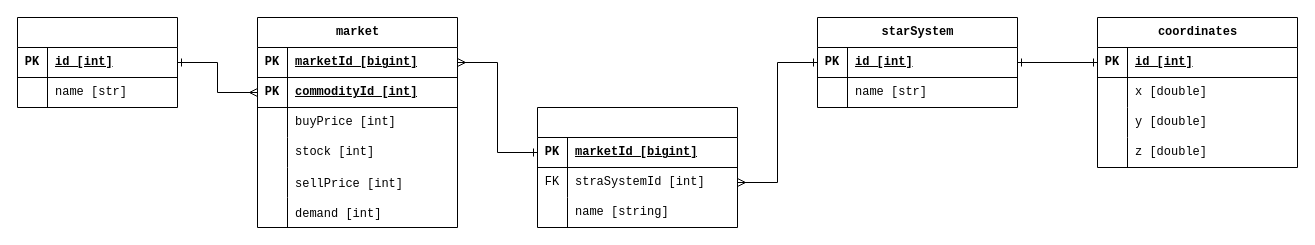
Some shapes in this 1315 by 245 pixel diagram are drawn without their labels. The shapes that lost their labels are listed below. From the top down, each one's box as (x1, y1, x2, y2) in pixels, then its label:
(16, 16, 178, 108): commodity
(536, 106, 738, 228): station
